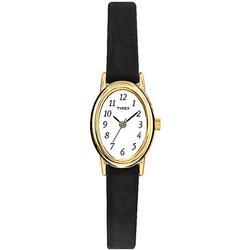watch: (80, 71, 166, 182)
